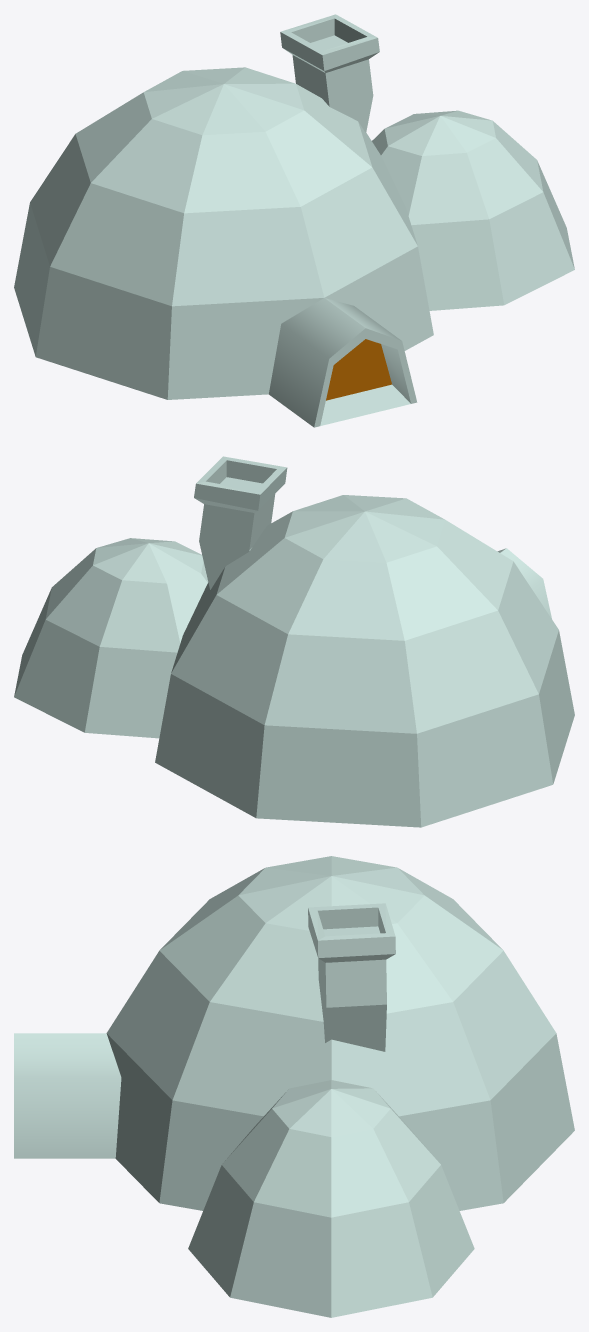
File: igloo_2.fbx
3 renders of one model, top to bottom at view 1: azimuth 30°, elevation 25°; view 2: azimuth 150°, elevation 25°; view 3: azimuth 270°, elevation 25°, orthographic. The views are drawn at different scales.
Visible parts, largest first — view 1: pSphere1, pSphere2, pCylinder1, pCube1; view 2: pSphere1, pSphere2, pCube1, pCylinder1; view 3: pSphere1, pSphere2, pCylinder1, pCube1.
Boxes of the visible parts, x1,y1,x2,y2 form: pSphere1: [14, 67, 433, 399]; pSphere2: [372, 110, 574, 310]; pCylinder1: [268, 298, 417, 427]; pCube1: [280, 14, 379, 132]; pSphere1: [155, 495, 574, 827]; pSphere2: [14, 538, 208, 738]; pCube1: [194, 456, 287, 589]; pCylinder1: [497, 548, 551, 618]; pSphere1: [106, 856, 574, 1210]; pSphere2: [188, 1080, 474, 1317]; pCylinder1: [14, 1033, 121, 1158]; pCube1: [308, 903, 395, 1051].
Size of the model in its own units: 2.82 by 1.23 by 2.3.
